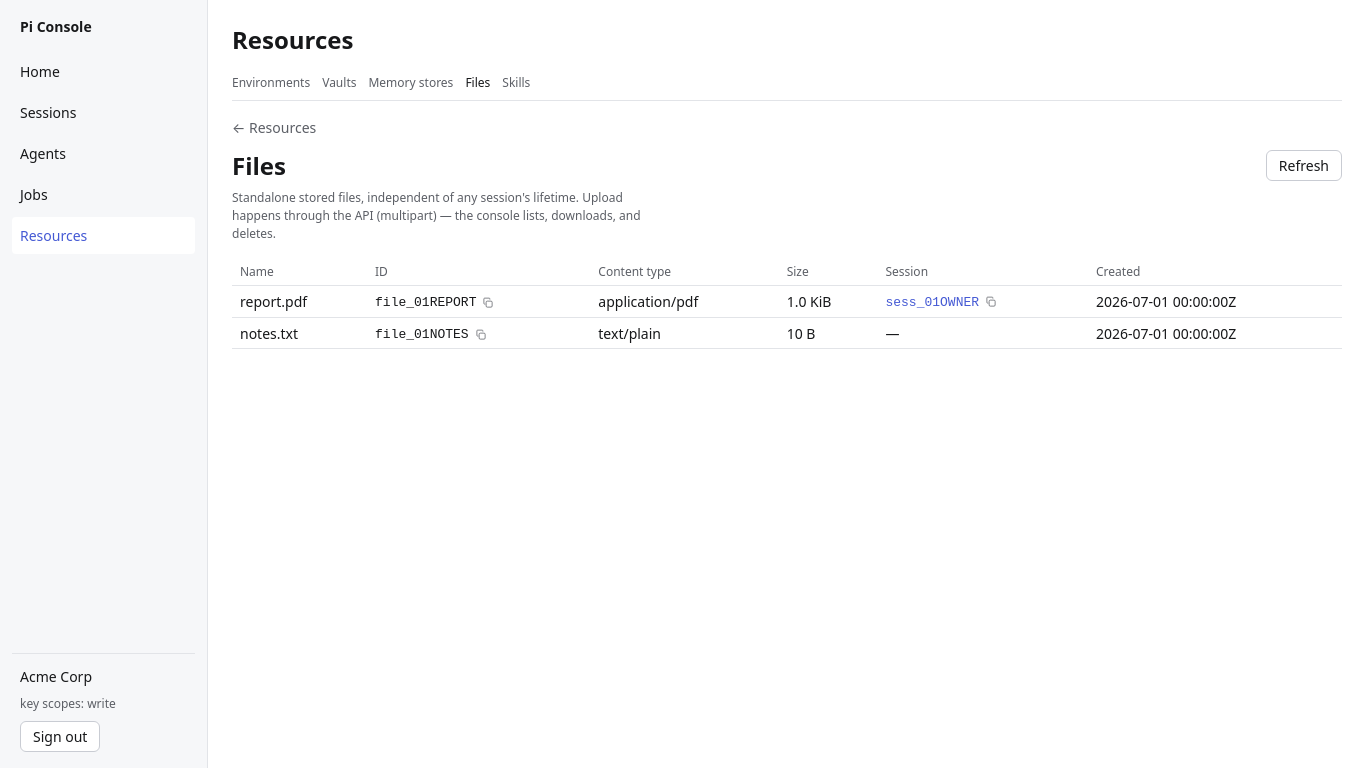
Test: files (§9.5) › hard-deletes behind a DP-7 typed confirmation (write scope)
Step 1. Click the text "report.pdf" → (300, 302), box left=232, top=286, right=367, bottom=317
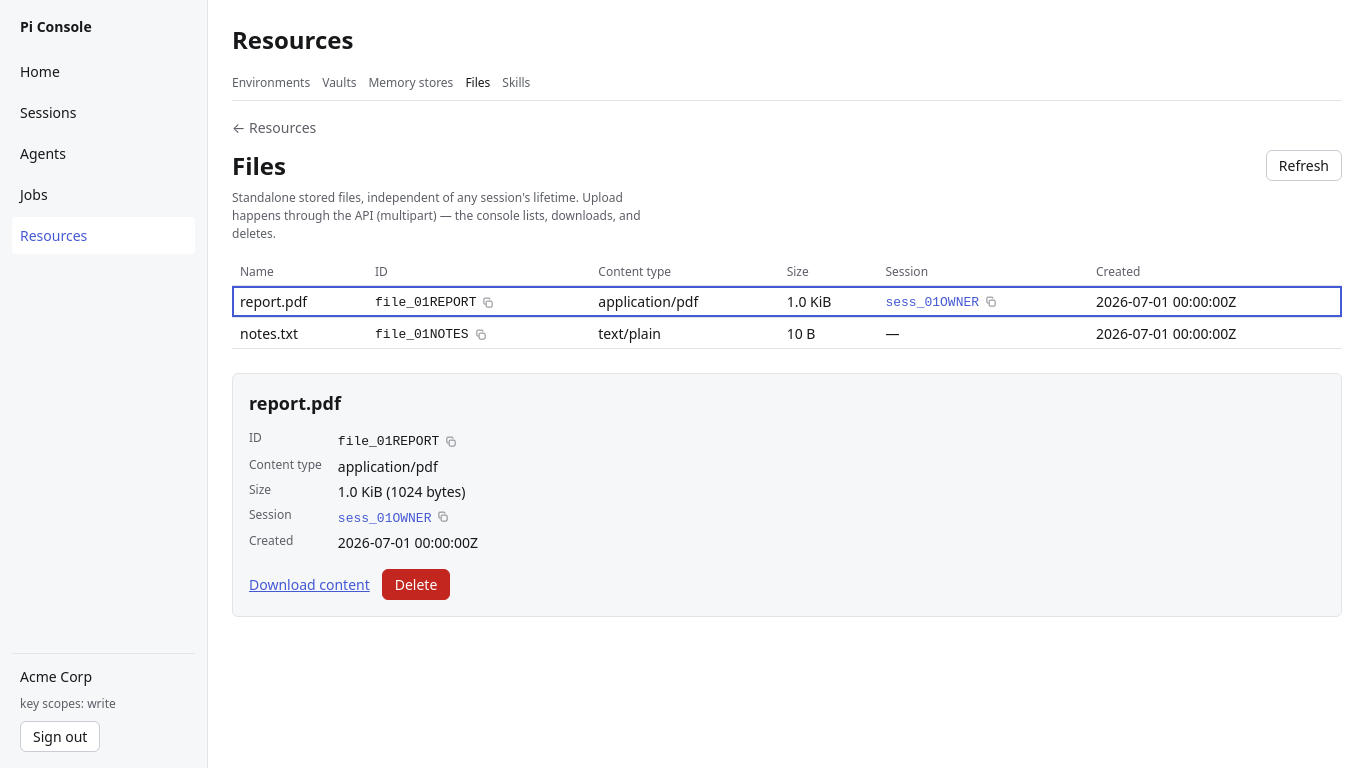
Step 2. Click the button "Delete" → (416, 585), box left=382, top=569, right=450, bottom=600
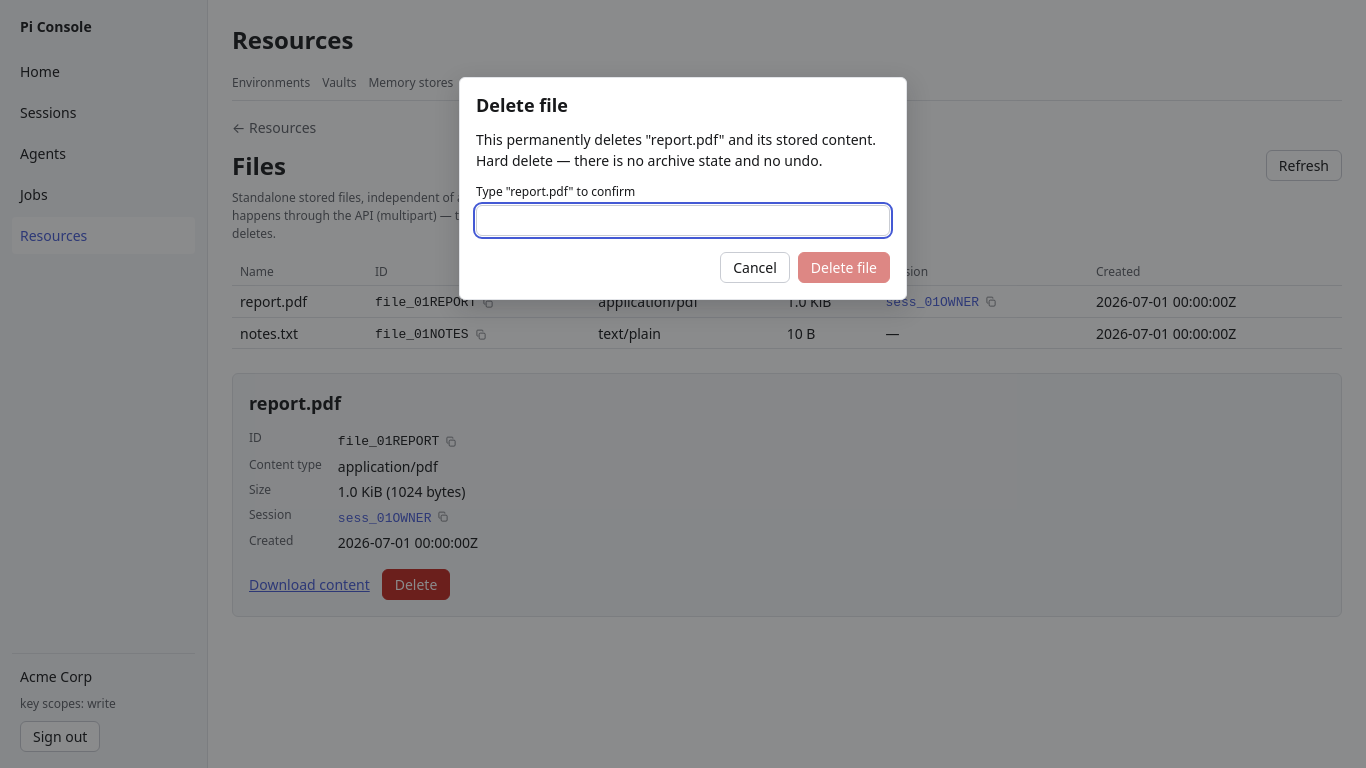
Expected: the text "permanently deletes \"report.pdf\"" is shown, left=476, top=130, right=876, bottom=170
Expected: the button "Delete file" is disabled, left=798, top=252, right=890, bottom=283
Step 3. Type "report.pdf" into the field labelled "Type \"report.pdf\" to confirm" → (683, 221), box left=476, top=205, right=890, bottom=236
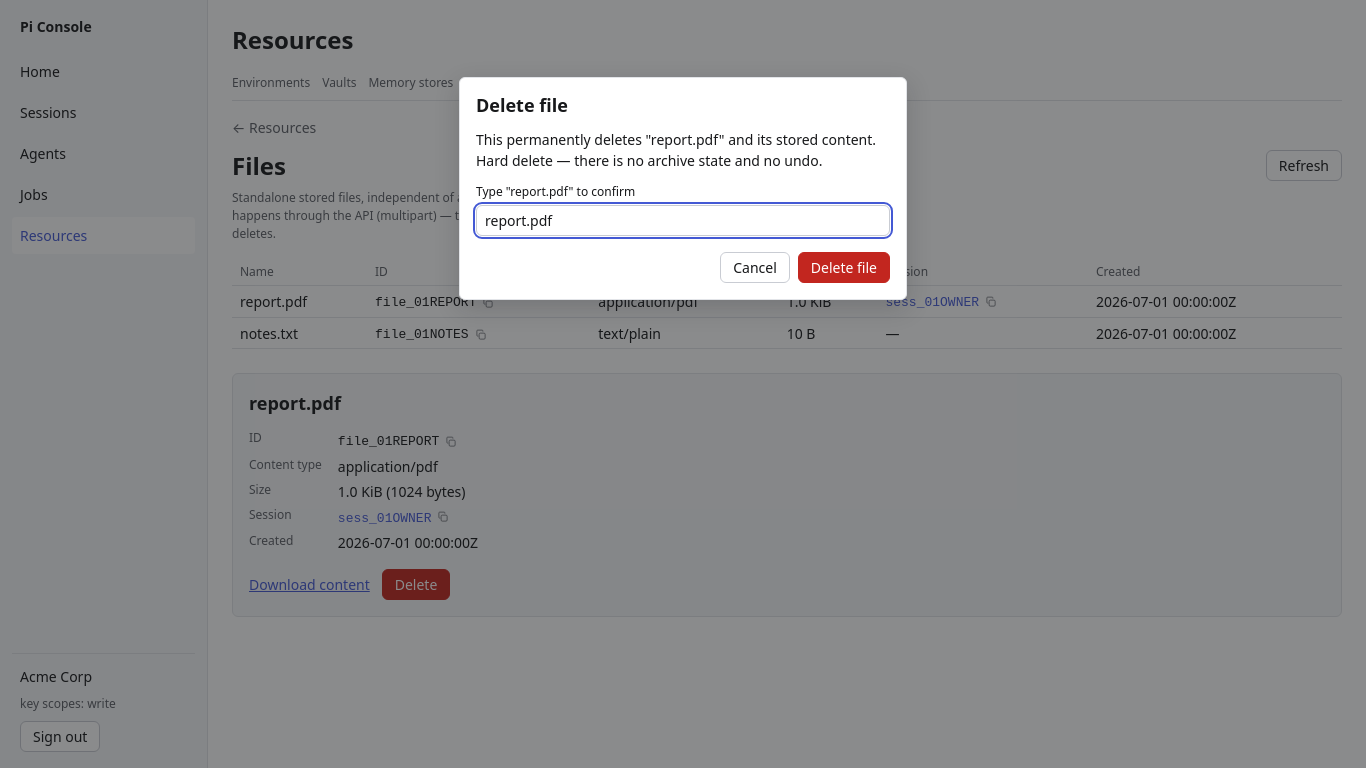
Step 4. Click the button "Delete file" → (844, 268), box left=798, top=252, right=890, bottom=283
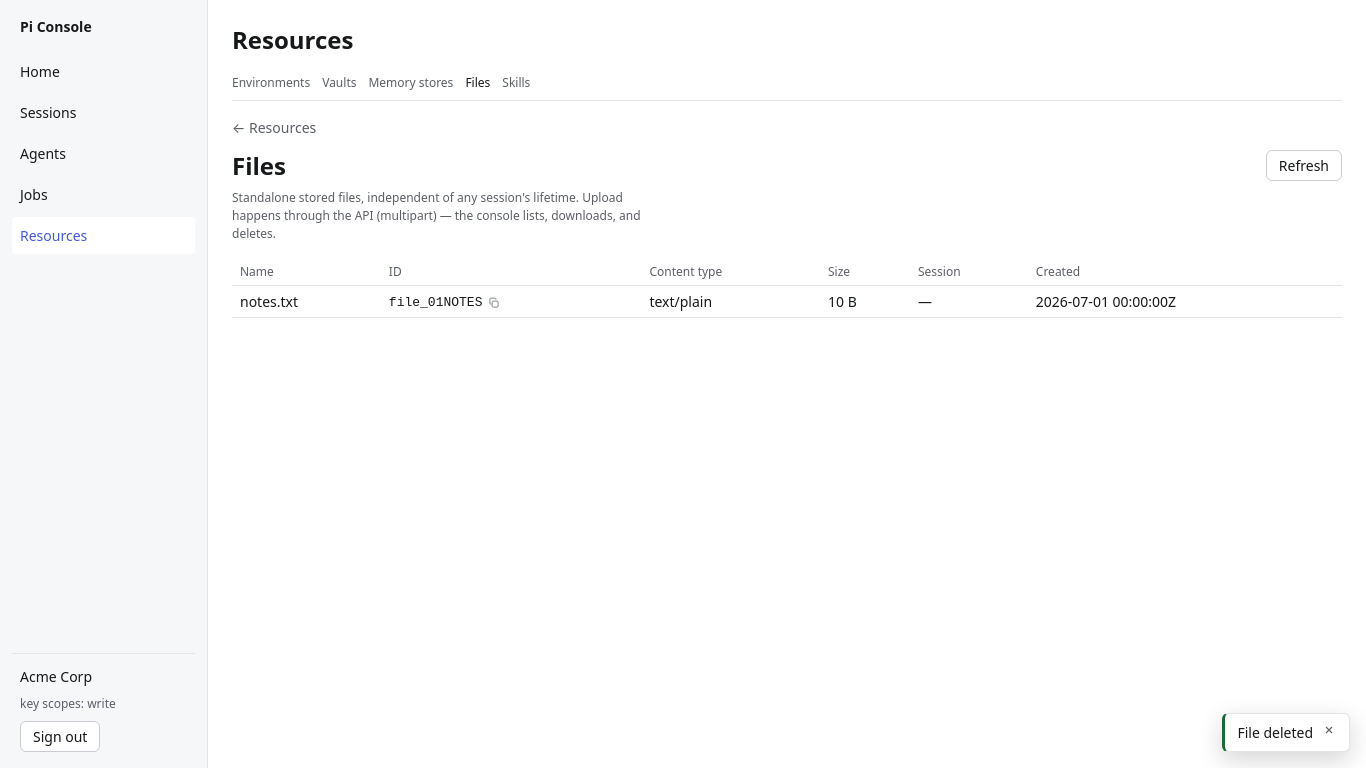
Expected: the text "report.pdf" is gone
